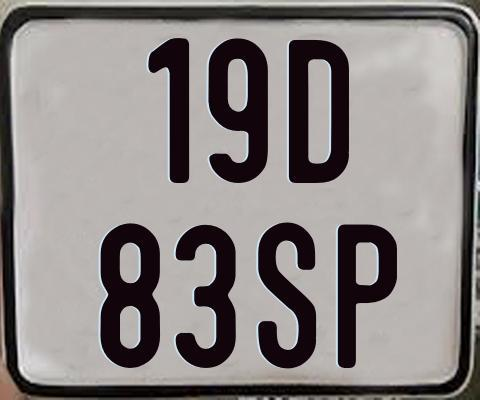1: (147, 35, 190, 184)
3: (175, 224, 237, 373)
8: (97, 221, 159, 370)
9: (205, 37, 270, 183)
D: (287, 38, 347, 182)
P: (336, 224, 395, 371)
S: (257, 220, 318, 368)
